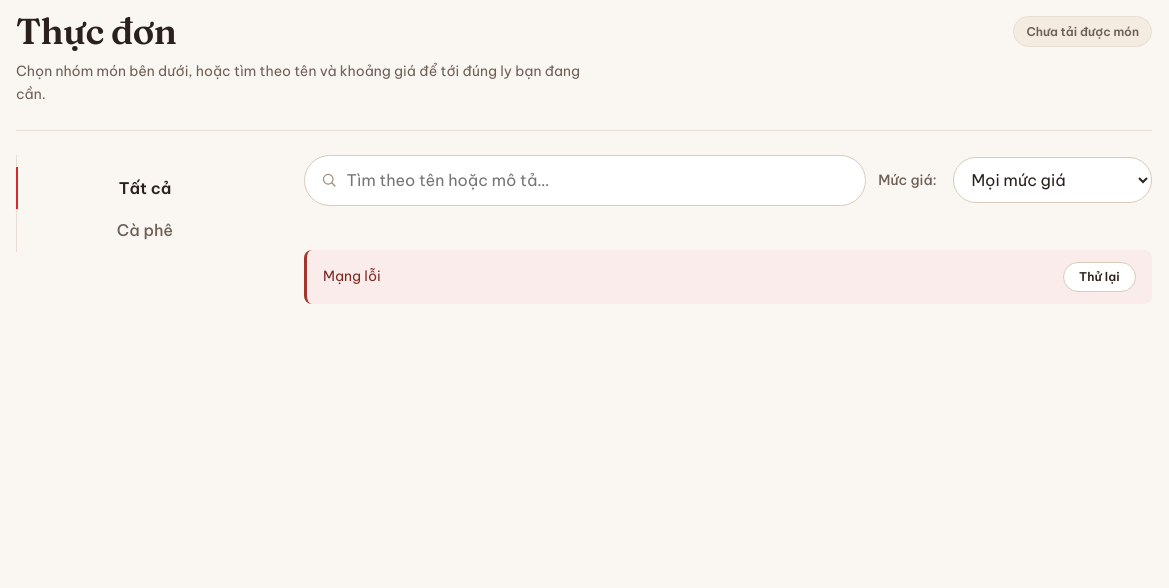
Test: Menu › separates load errors from empty results and can retry
Check: the message "Mạng lỗi Thử lại" is shown, box [304,250,1152,304]
Click the button "Thử lại" at x=1099, y=277, box [1063,262,1136,292]
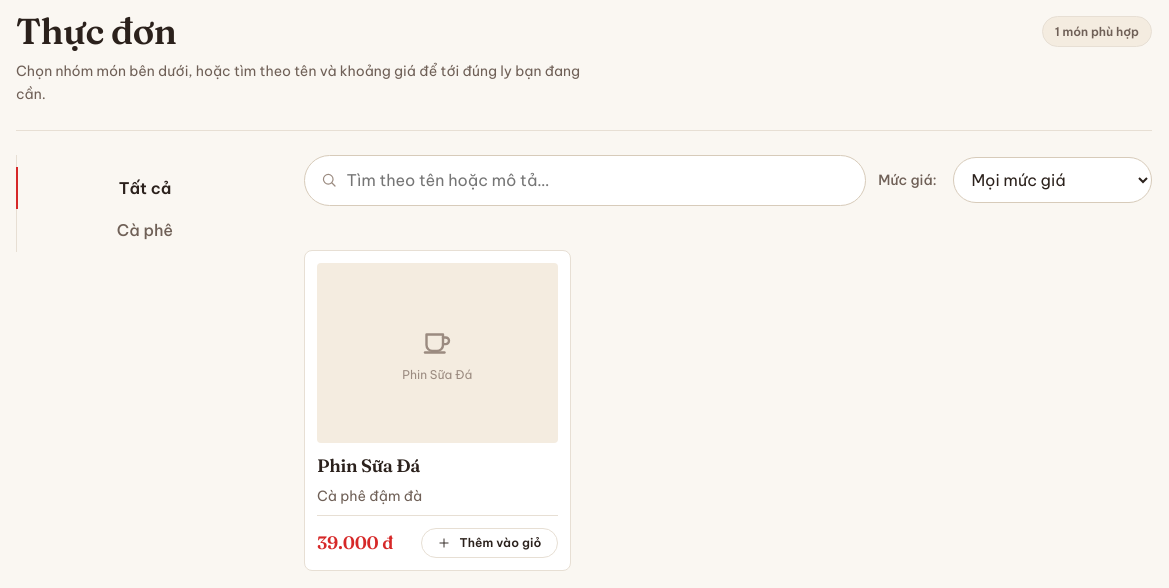
Check: the heading "Phin Sữa Đá" is shown, box [317,454,420,477]
